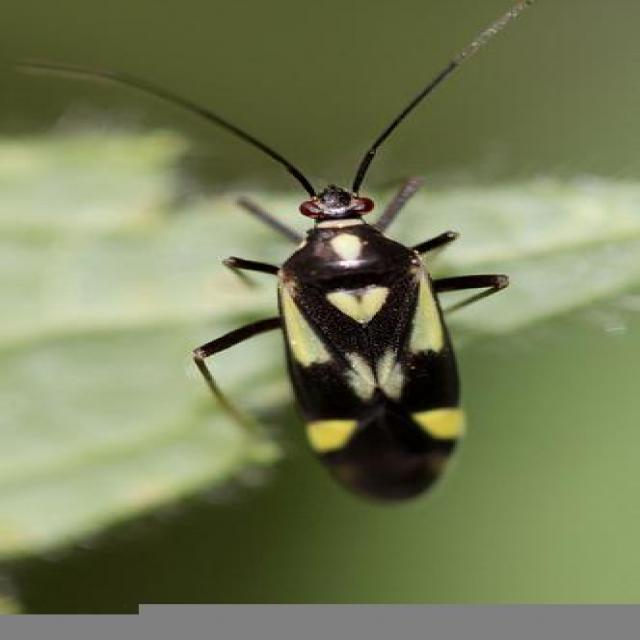Miridae-Adult-: (61, 31, 539, 521)
